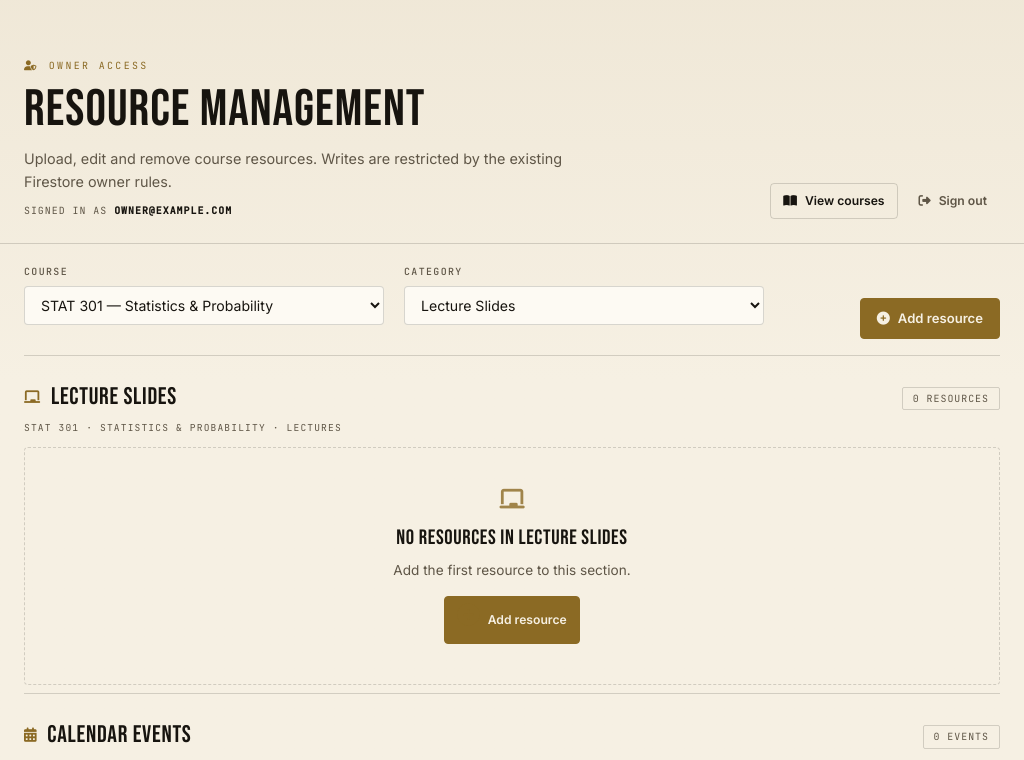
AdminPage resource creation › validates the form and never persists before confirmation
Expected: the heading "No resources in Lecture Slides" is shown, [396,525,628,550]
What coordinates should you click on to do the following:
click the 1st button "Add resource"
I would click on:
 (930, 318)
Its box is [860,298,1000,339].
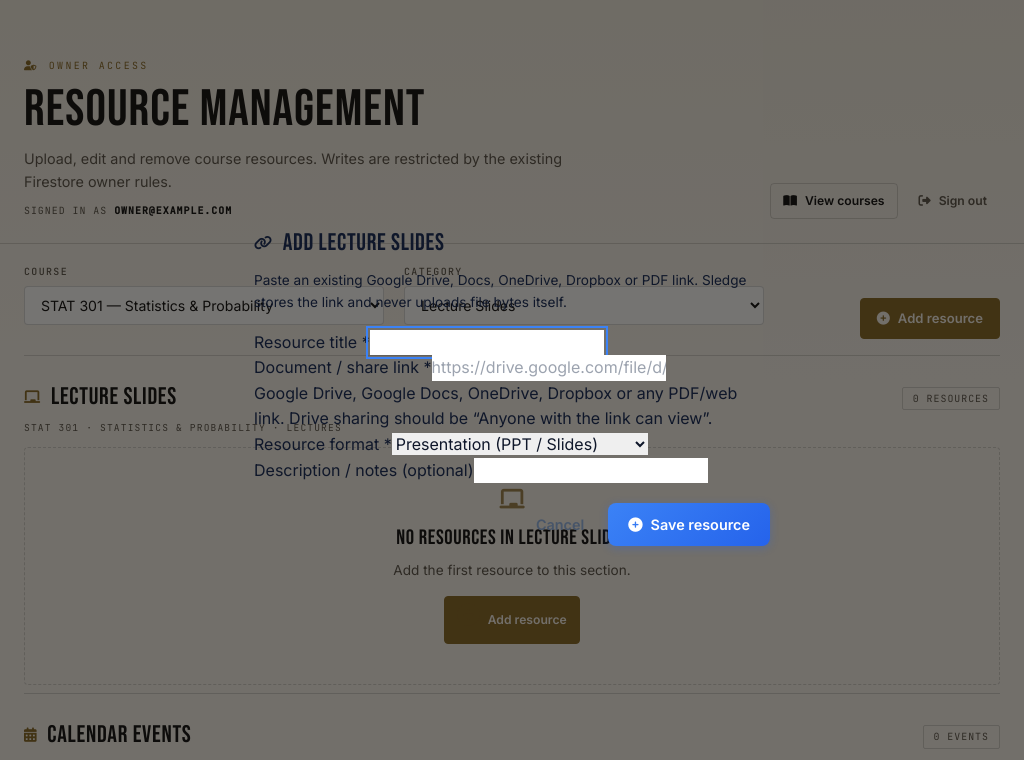
What coordinates should you click on to do the following:
click the button "Save resource"
I would click on:
 (689, 525)
Its box is [608,503,770,546].
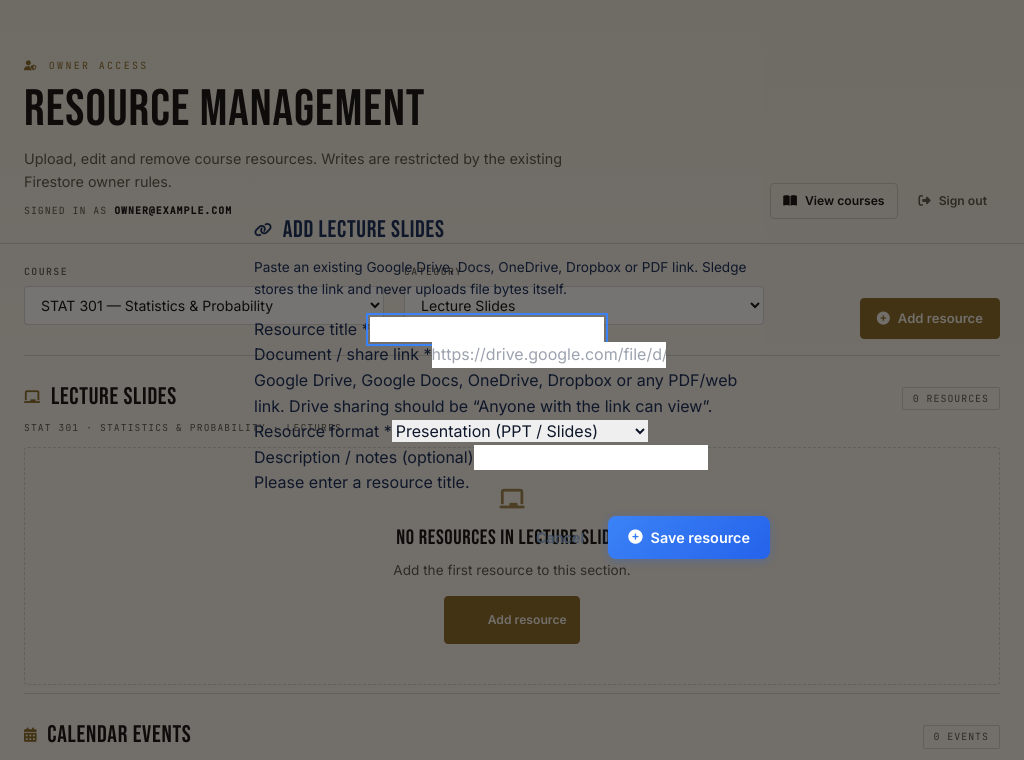
Now the message reads "Please enter a resource title.", box [254,472,470,492]
